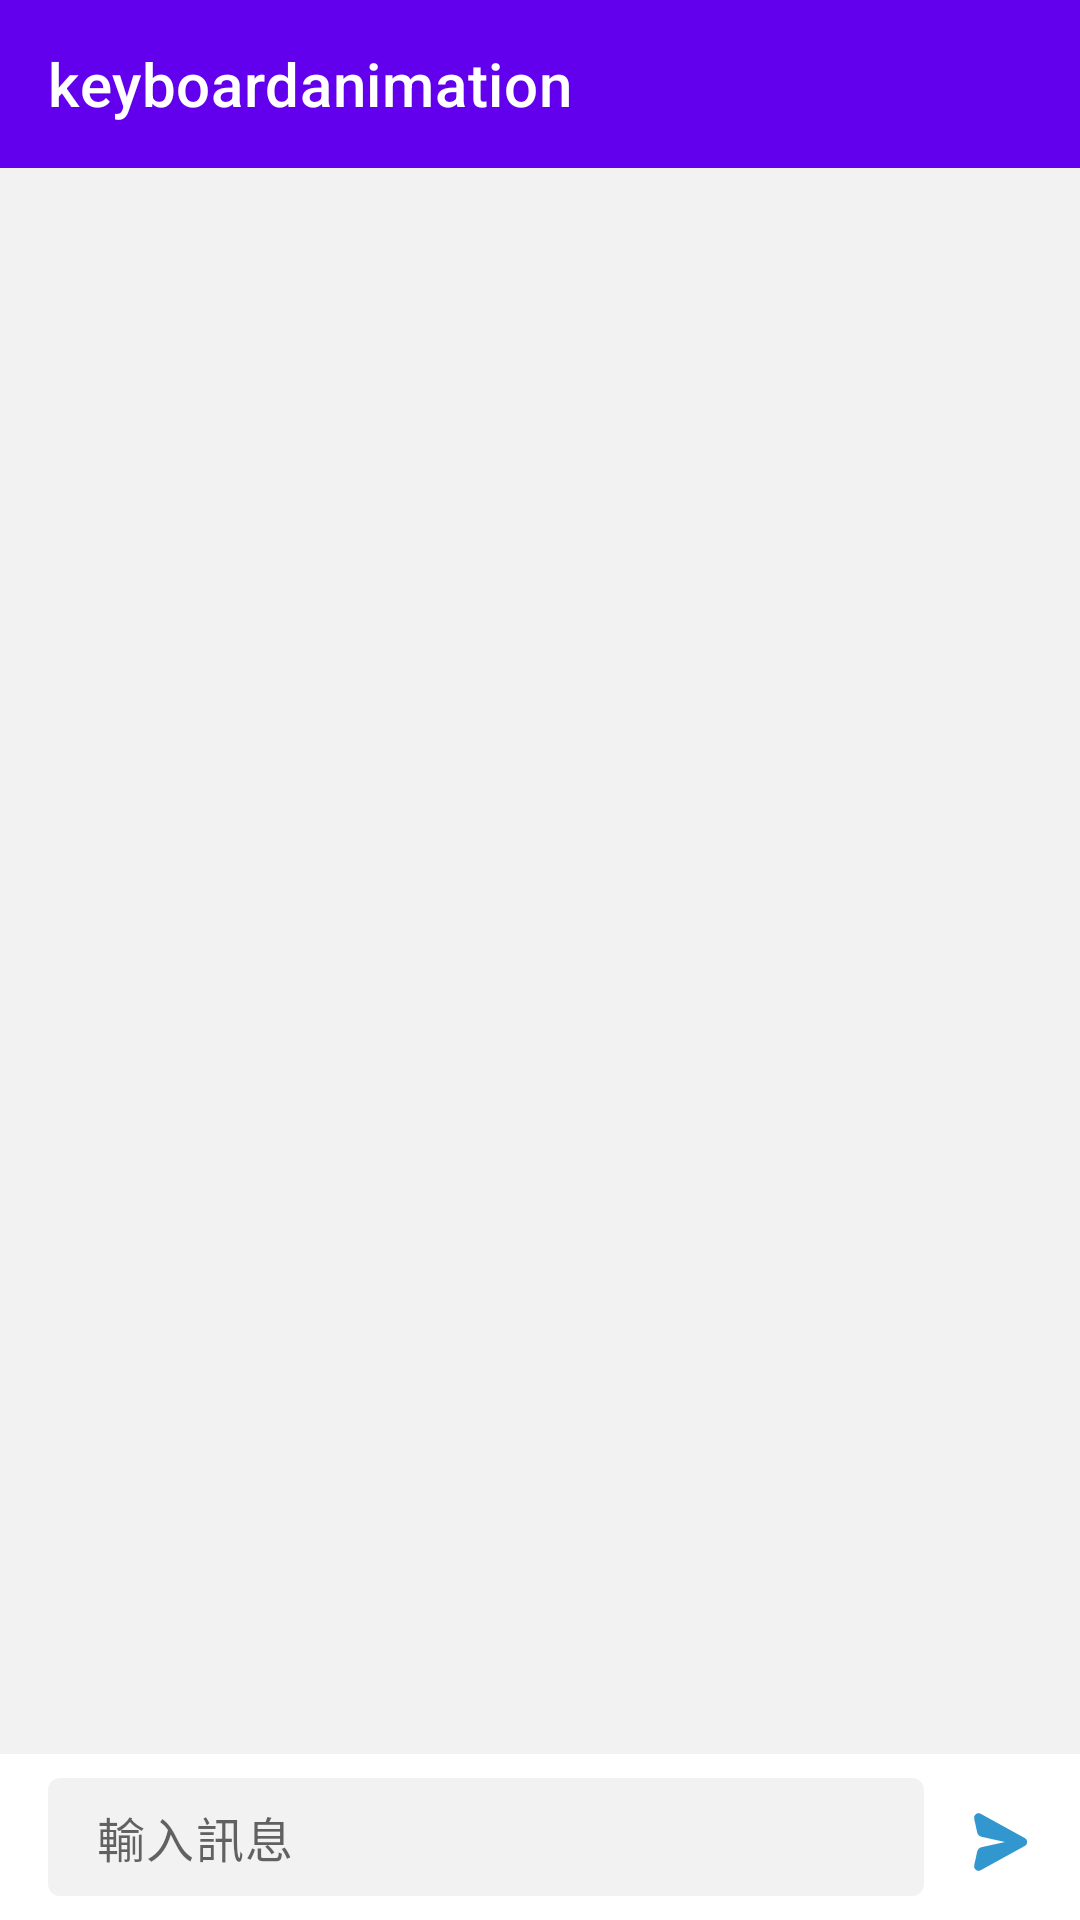

Icons on this 1080px×1920px Android screen, each with the point to tap as (x=x, y=y):
send: (x=1000, y=1842)
